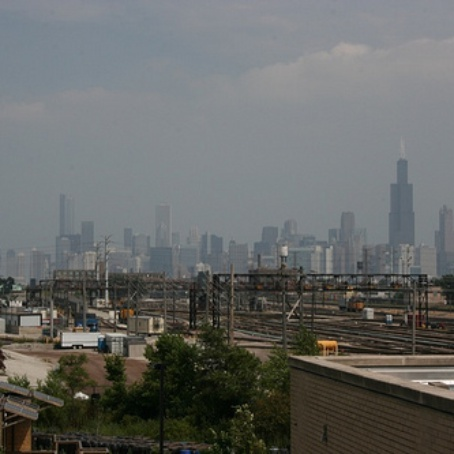building: (290, 352, 454, 454), (389, 154, 413, 239), (255, 226, 278, 272), (128, 231, 152, 275), (57, 190, 77, 237), (179, 245, 203, 272), (227, 243, 251, 270), (160, 204, 175, 245)
sky: (8, 1, 448, 217)
tree: (177, 316, 260, 429), (254, 322, 318, 438), (142, 330, 191, 414), (43, 352, 96, 424), (102, 356, 137, 417)
